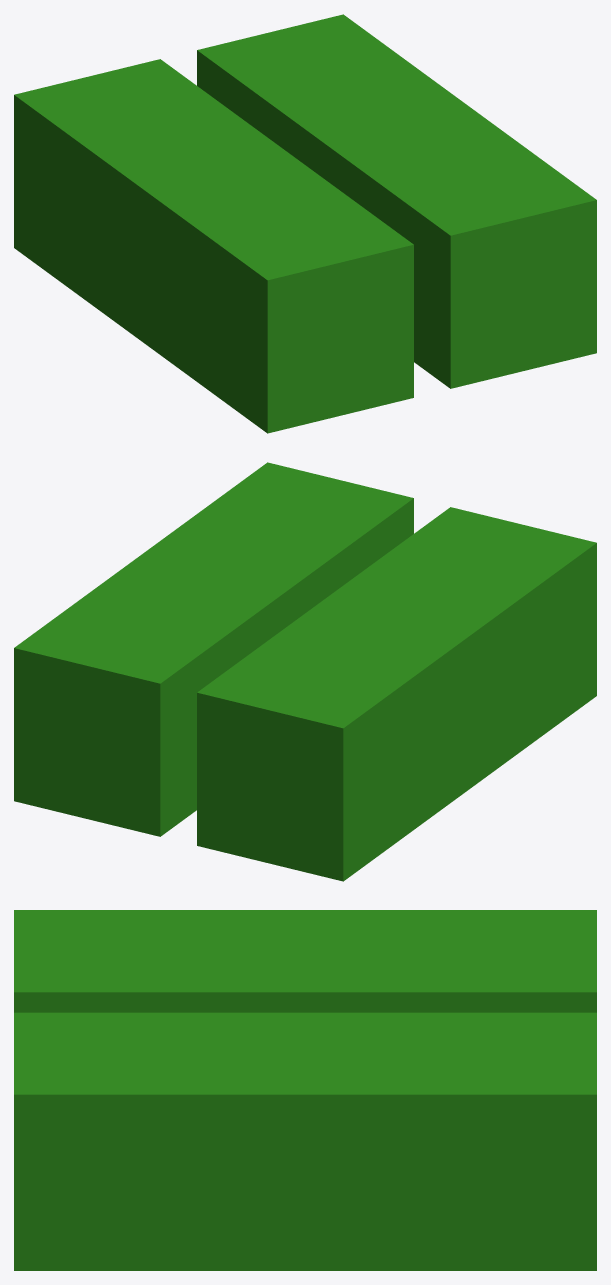
The model's file is boxes_long.fbx.
3 renders of one model, top to bottom at view 1: azimuth 30°, elevation 25°; view 2: azimuth 150°, elevation 25°; view 3: azimuth 270°, elevation 25°, orthographic. The views are drawn at different scales.
Visible parts, largest first — view 1: boxes_long; view 2: boxes_long; view 3: boxes_long.
Part boxes in pixels (x1,y1,x2,y2): boxes_long: (14, 14, 596, 433); boxes_long: (14, 462, 596, 881); boxes_long: (14, 910, 596, 1270).
Size of the model in its own units: 45 by 20 by 60.
